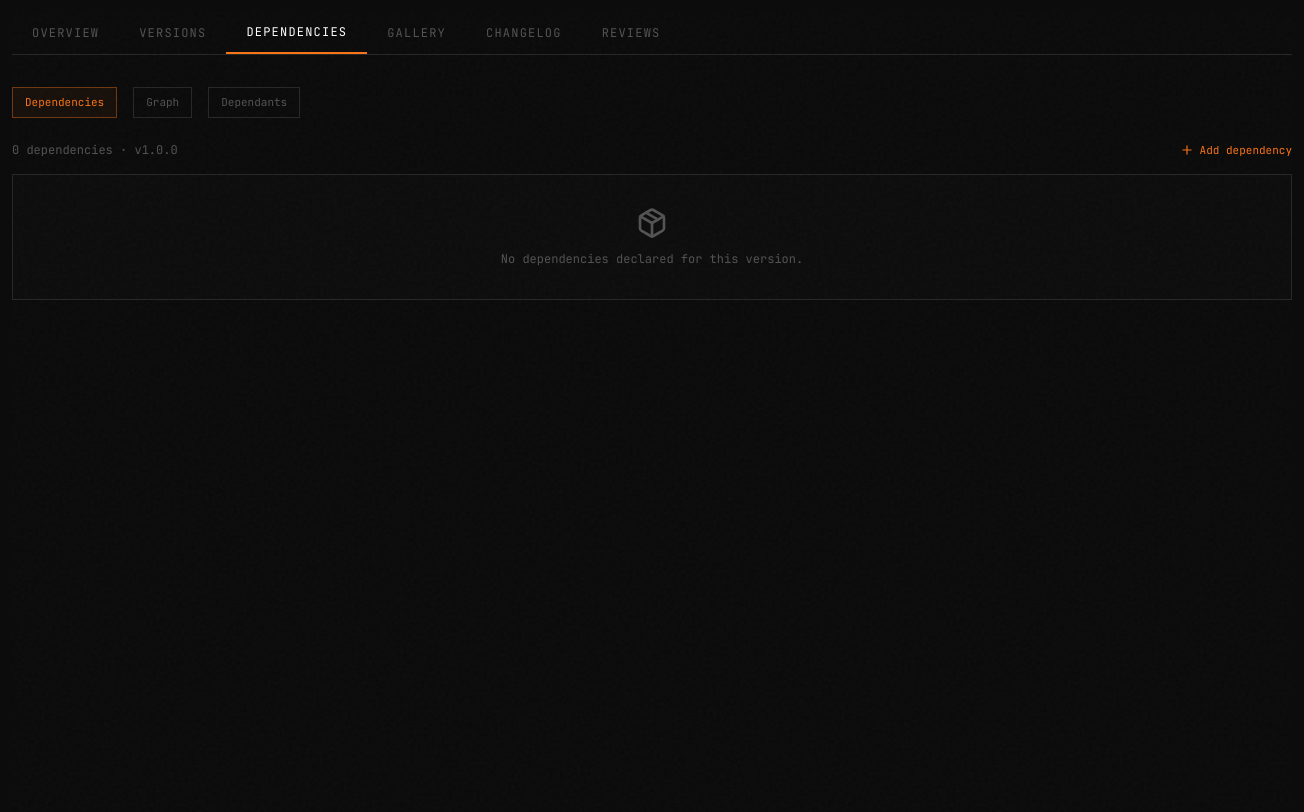
PluginContent › validates self-dependency
Click the button "Add dependency".
click(1236, 150)  # box top-left (1180, 142), bottom-right (1292, 158)
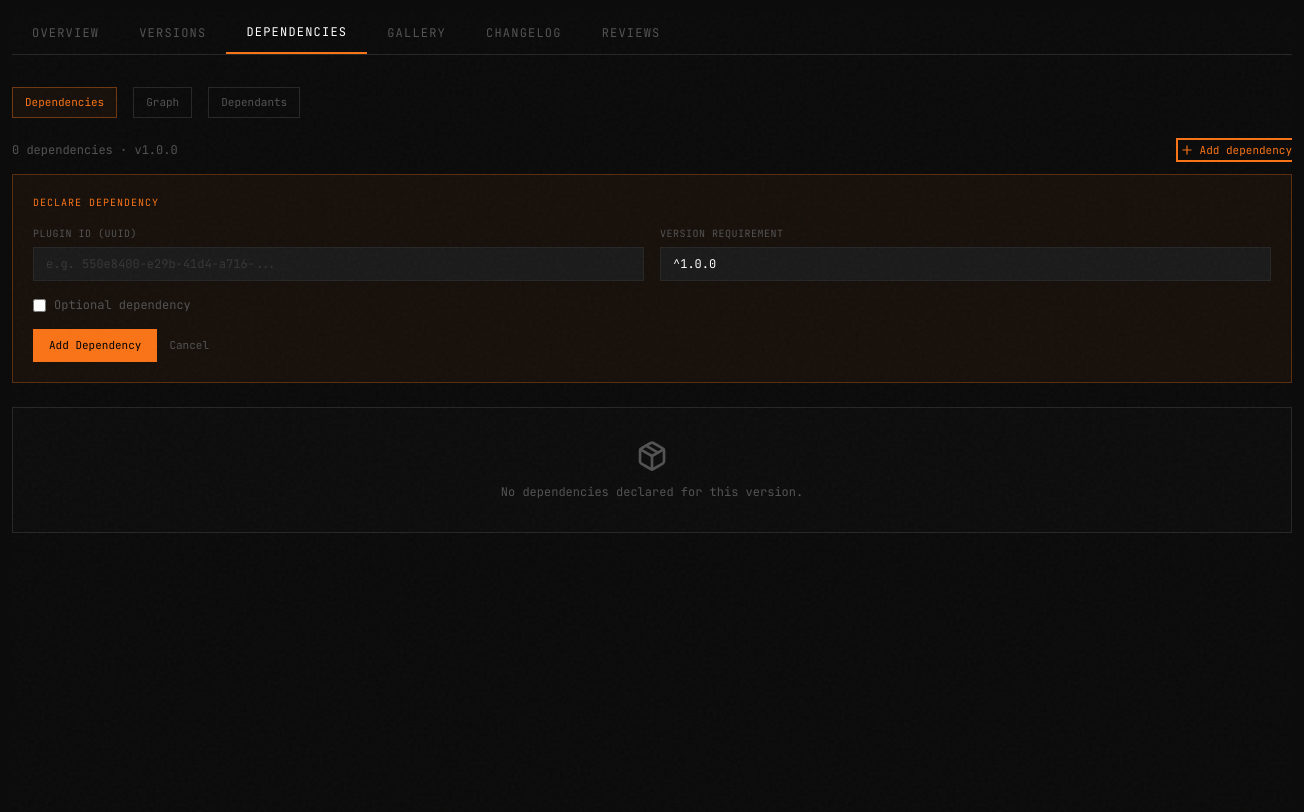
Type "p1" into the field with placeholder "e.g. 550e8400-e29b-41d4-a716-...".
click(338, 264); type("p1")  # box top-left (33, 247), bottom-right (644, 281)
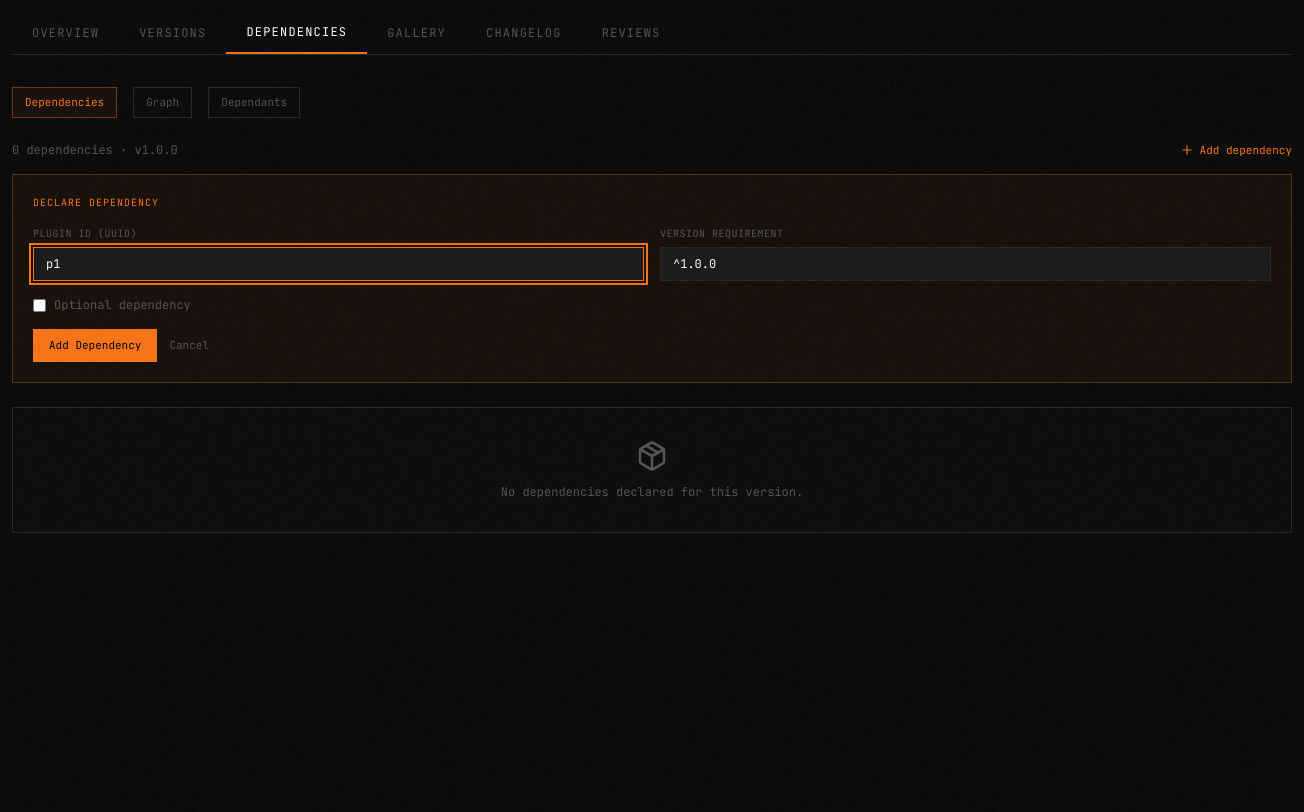
Click the button "Add Dependency".
click(95, 345)  # box top-left (33, 329), bottom-right (157, 362)
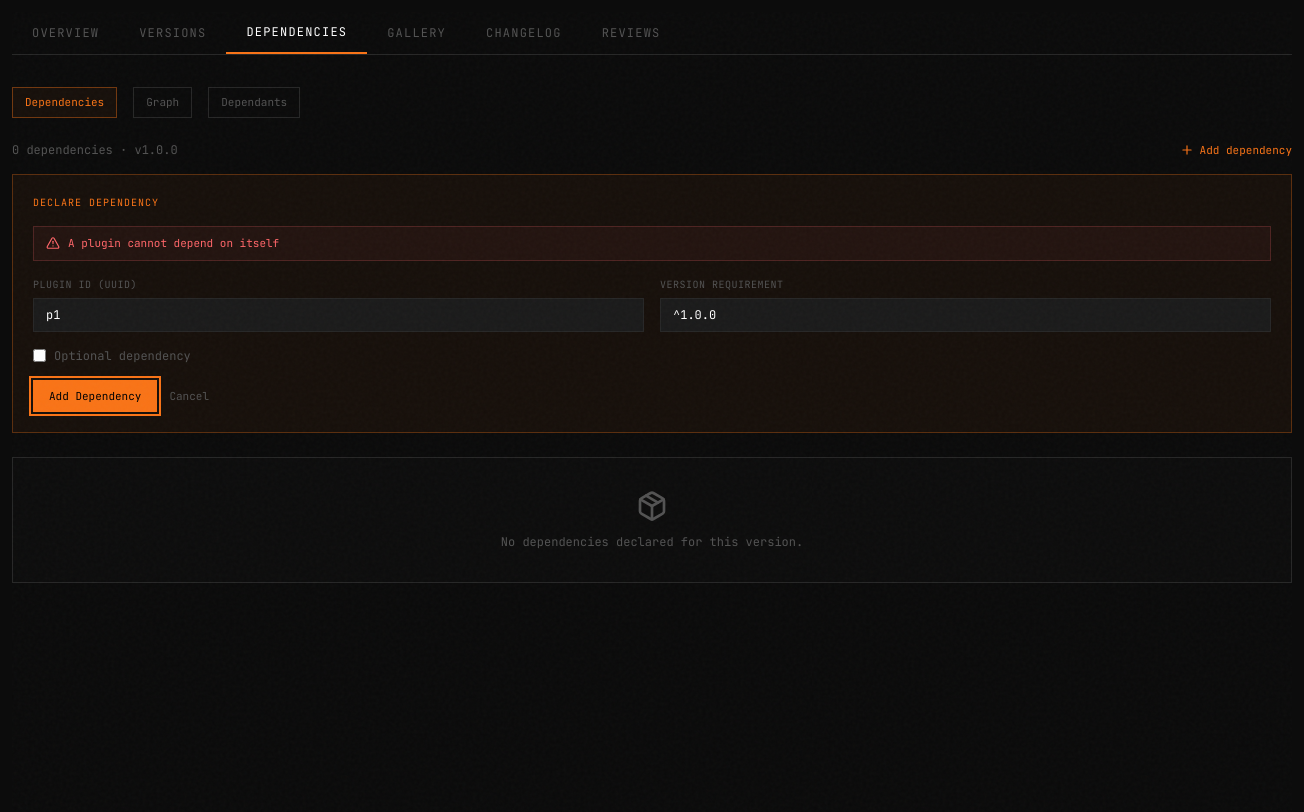
Now the text "A plugin cannot depend on itself" is shown, box top-left (33, 226), bottom-right (1271, 260)
